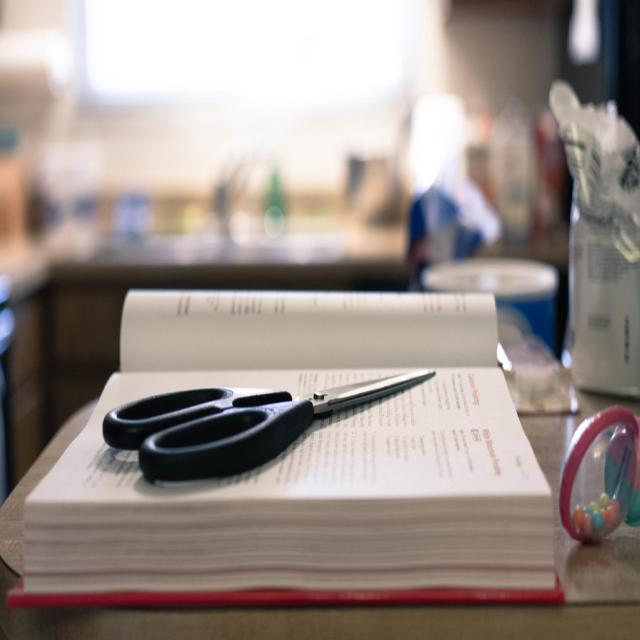scissors: (102, 368, 436, 484)
